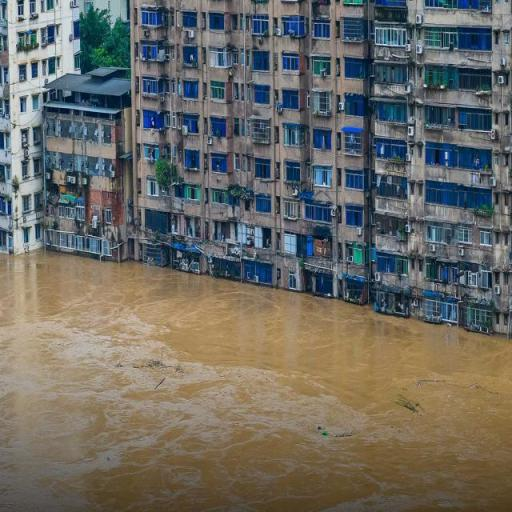flood: (0, 252, 512, 512)
house: (131, 2, 364, 296), (372, 0, 512, 322), (0, 1, 76, 252), (44, 72, 129, 254), (298, 260, 336, 298)
